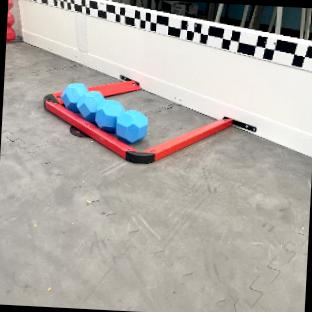Parking-R: (43, 92, 239, 163), (87, 80, 140, 95)
V5_BLUE: (61, 83, 148, 143)
V5_RED: (6, 0, 14, 40)
